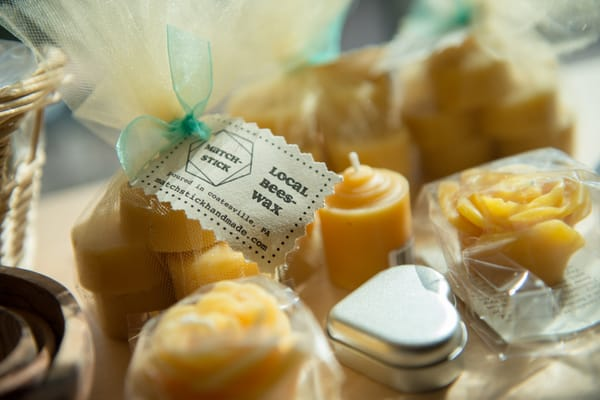pizza: (0, 12, 70, 269)
